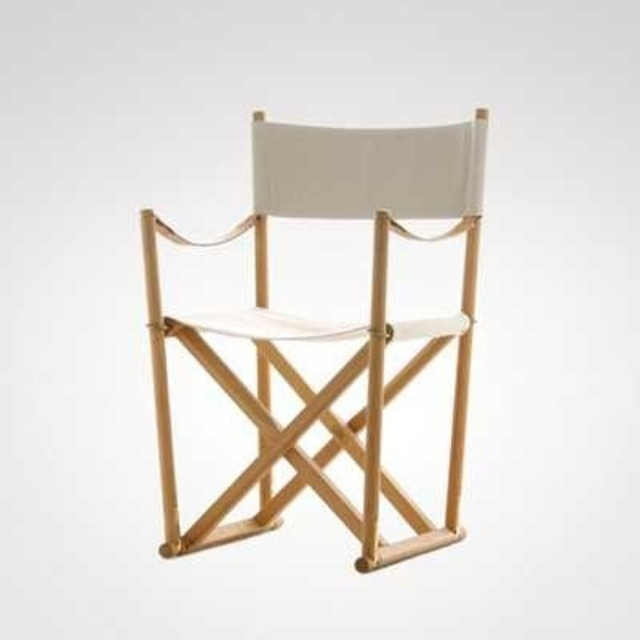obstacle: (141, 109, 486, 571)
